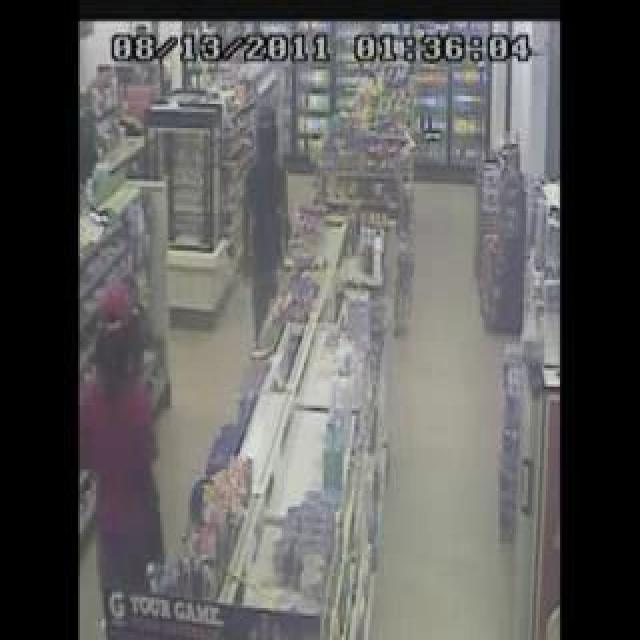thief: (102, 274, 156, 405), (246, 96, 293, 205)
